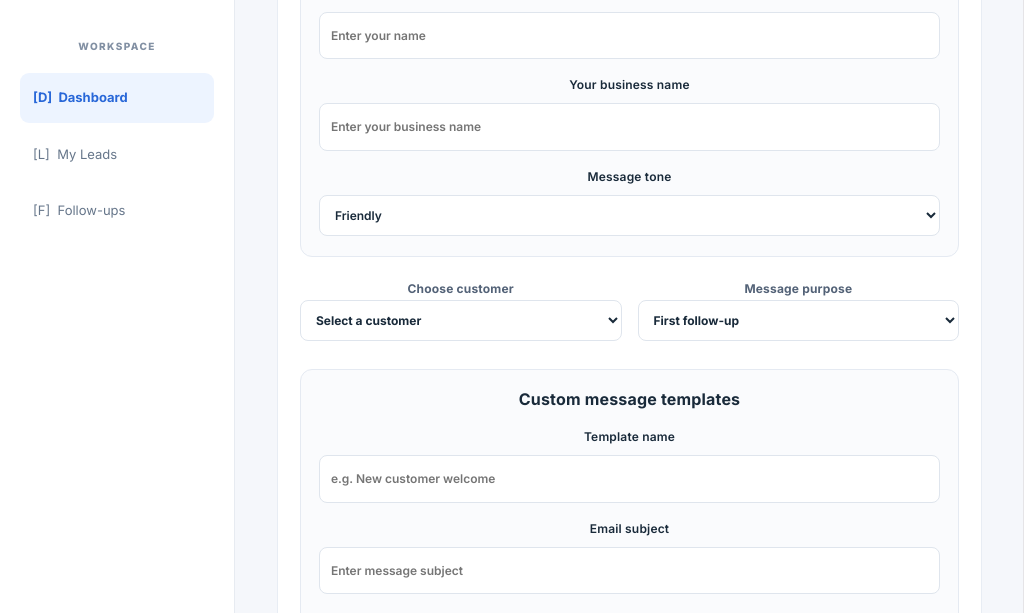
Test: message generator › explains why Generate is disabled until a customer is chosen
(page scrolled)
Select "Ada Lovelace - Analytical Engines" in the dropdown labelled "Choose customer" at (461, 320), box top-left (300, 300), bottom-right (622, 341)
(page scrolled)
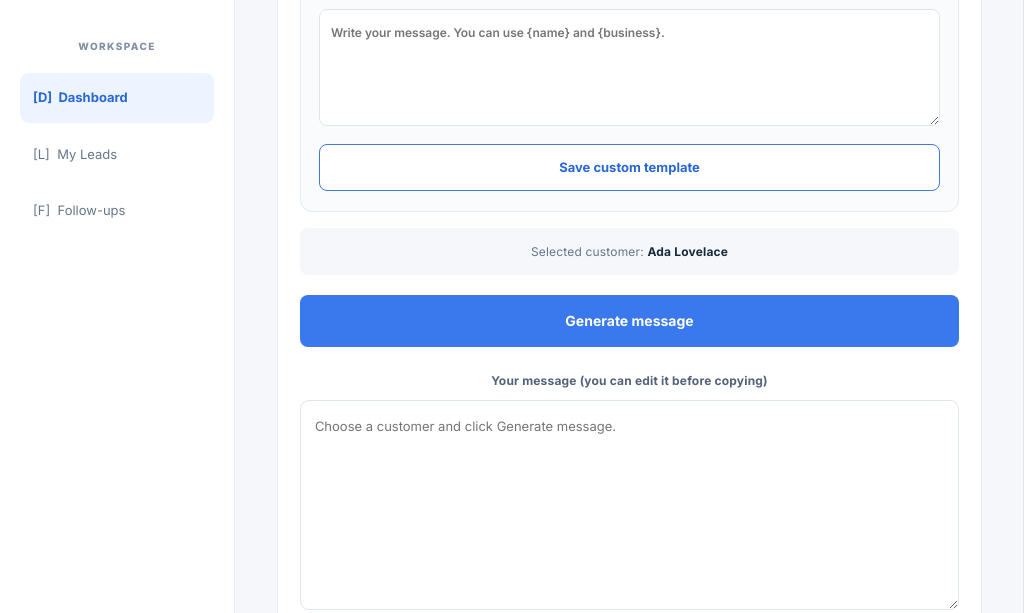
Now the button "Generate message" is enabled, box top-left (300, 295), bottom-right (959, 347)
